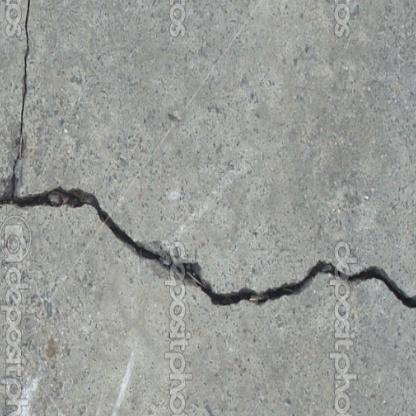Cracks: (0, 154, 164, 265), (177, 260, 416, 320), (20, 0, 32, 137)
